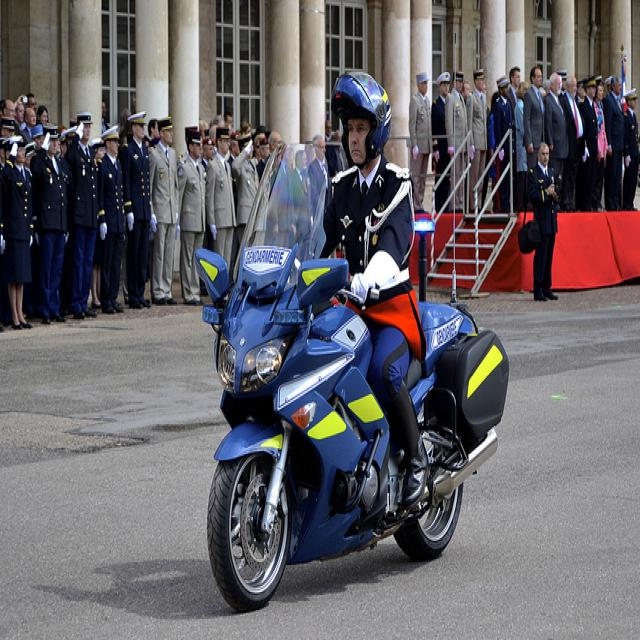motor: (197, 245, 505, 624)
